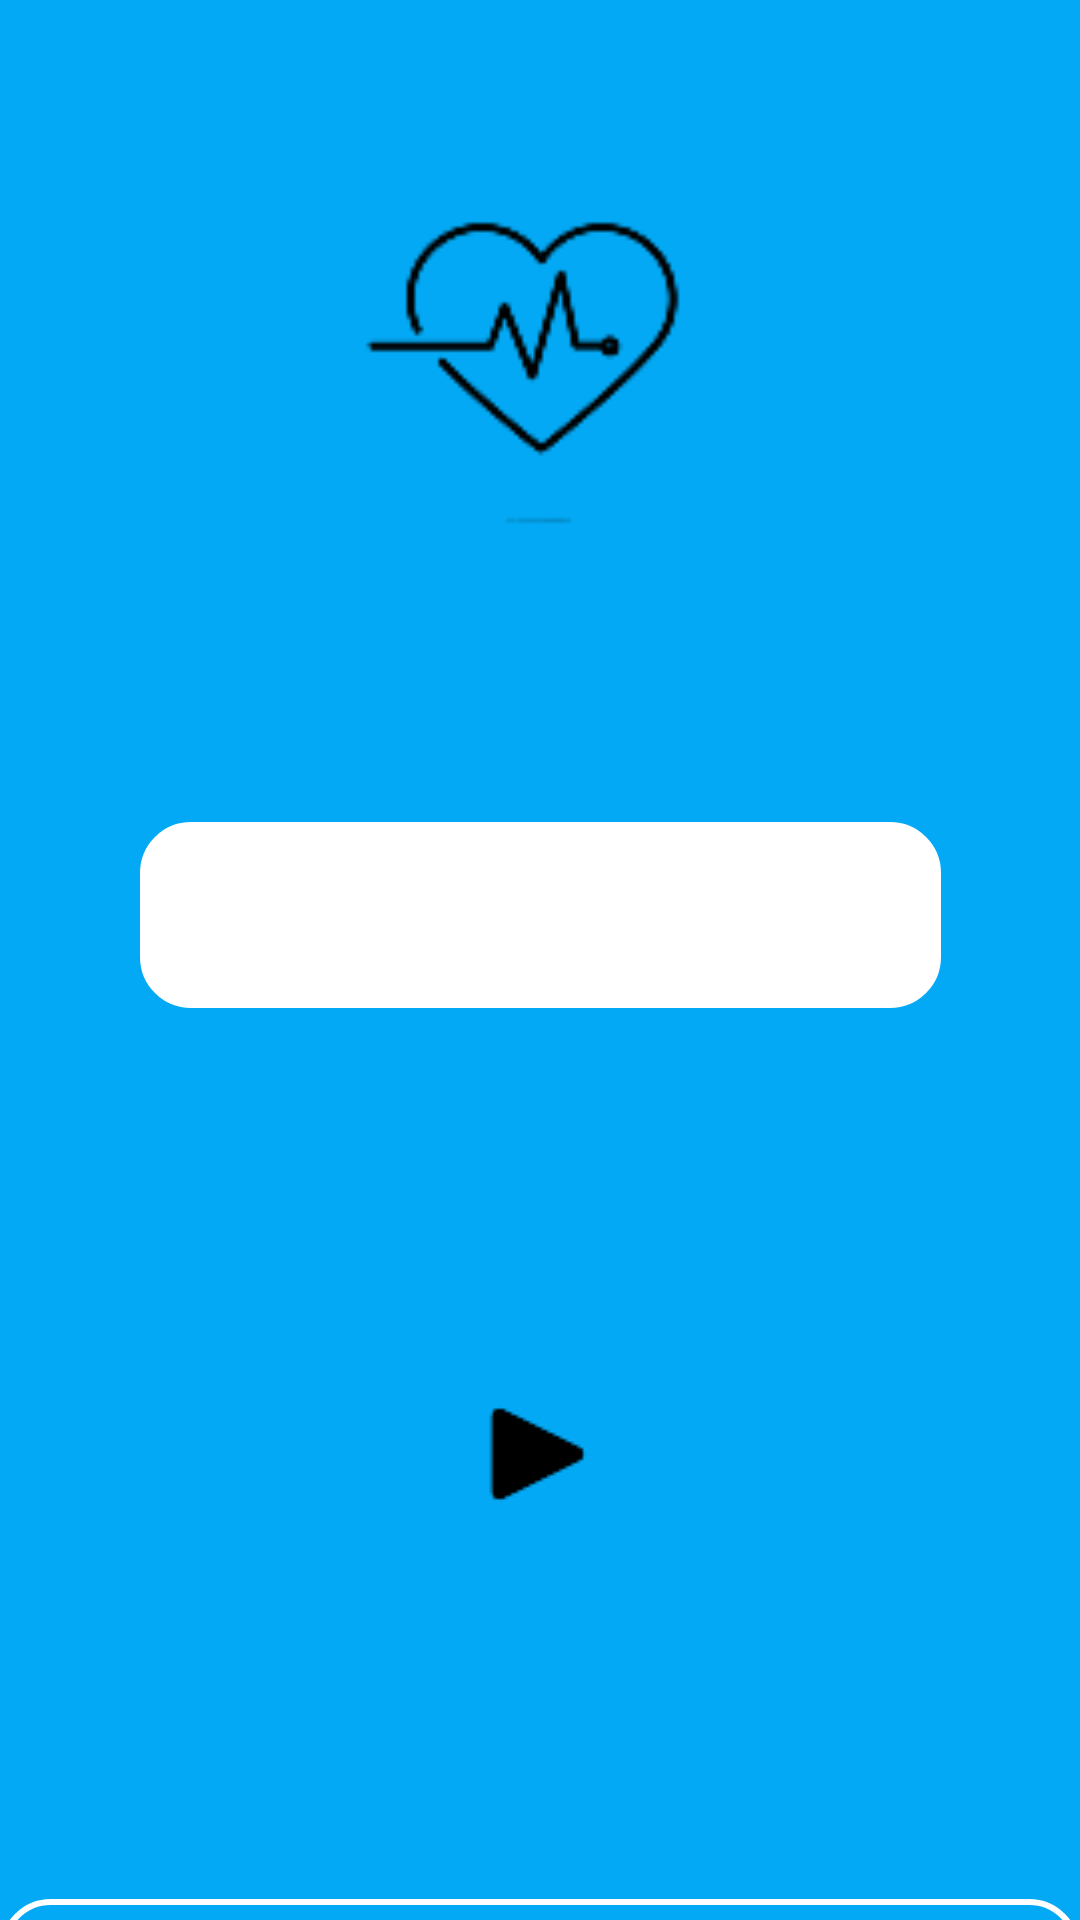

Icons on this 1080px×1920px Android screen, each with the point to tap as (x,y):
play: (536,1454)
ritmo cardiaco: (523,372)
